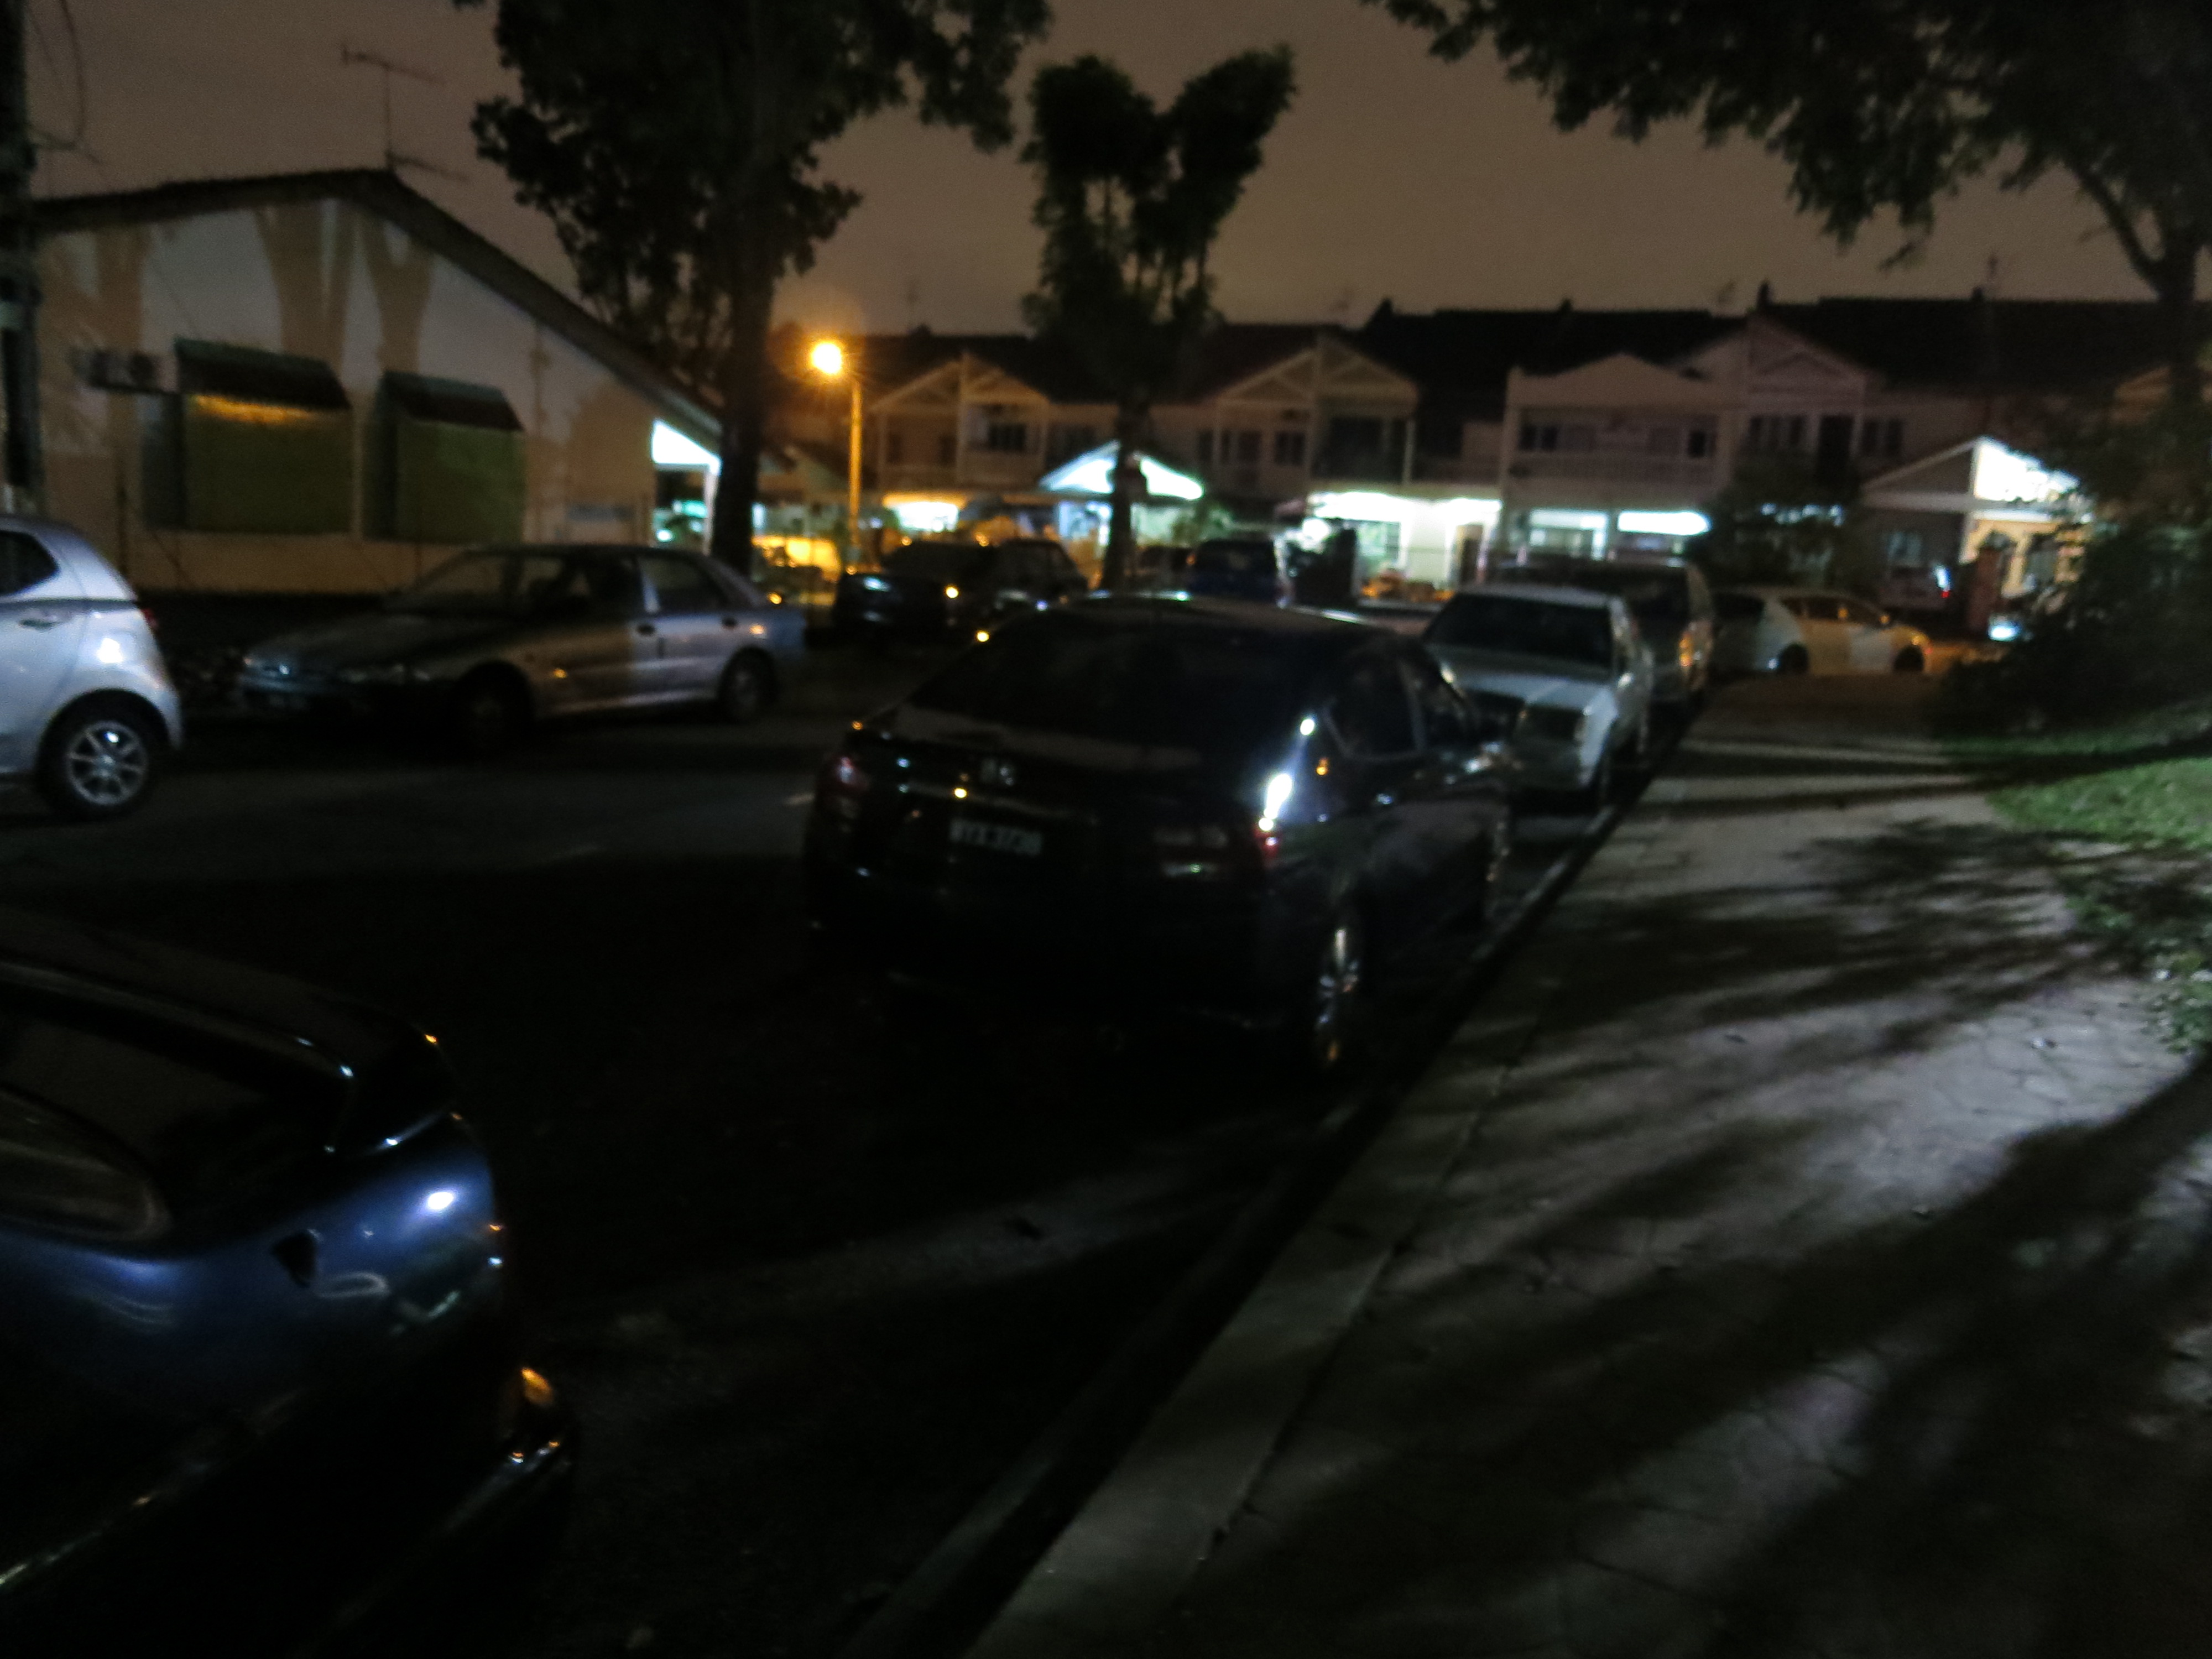car: (230, 535, 822, 774)
